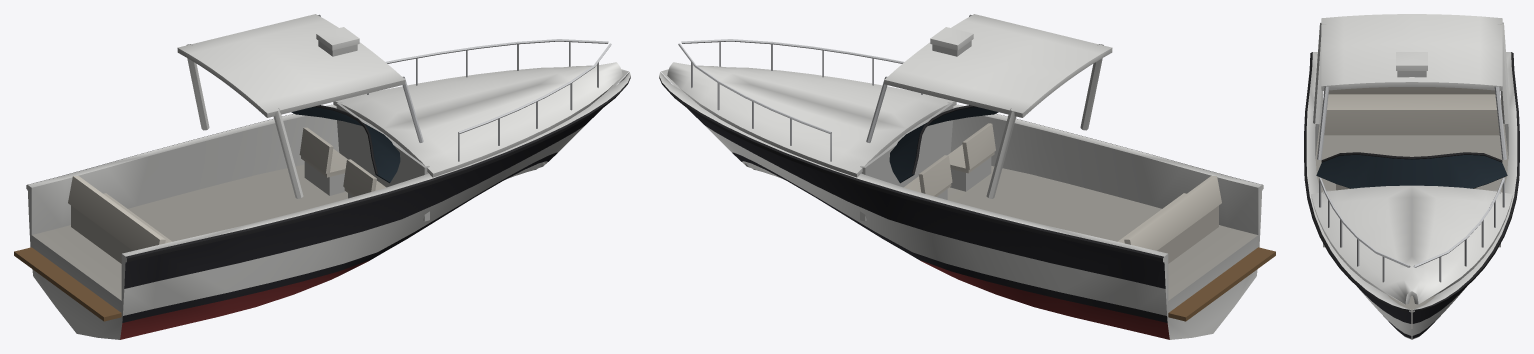
Rendered from cruiser.glb.
3 renders of one model, left to right at view 1: azimuth 30°, elevation 25°; view 2: azimuth 150°, elevation 25°; view 3: azimuth 270°, elevation 25°, orthographic.
Parts seen in each view (by area): view 1: lod0; view 2: lod0; view 3: lod0.
Part boxes in pixels (x1=…): lod0: x1=14, y1=14, x2=630, y2=339; lod0: x1=659, y1=14, x2=1275, y2=339; lod0: x1=1304, y1=14, x2=1519, y2=339.
Size of what is drawn, in the model's own units: 11.35 by 4.45 by 3.68.
